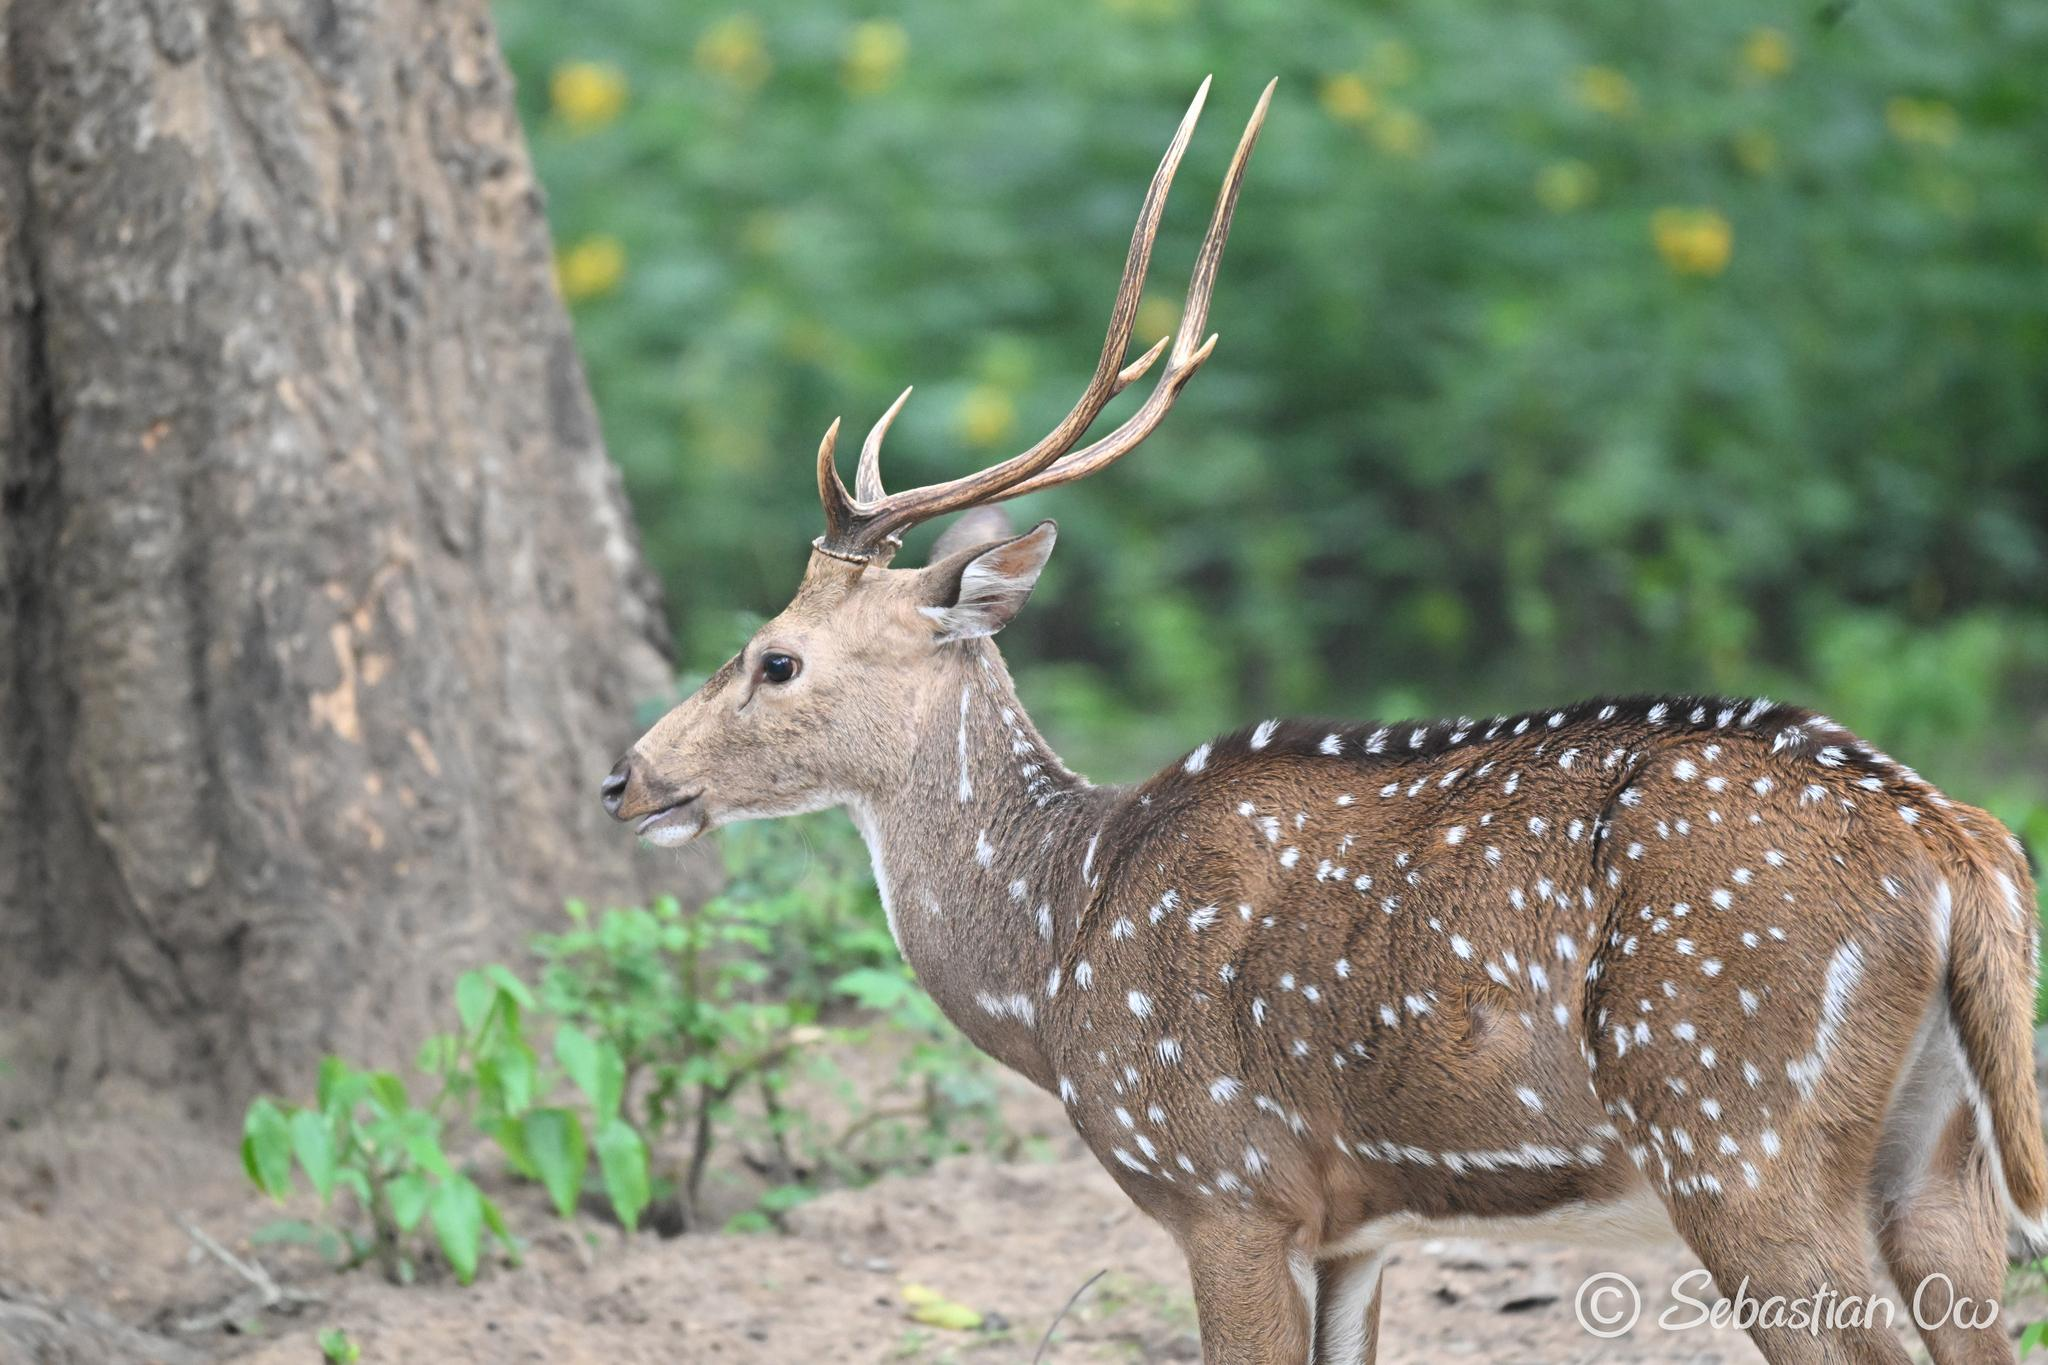Deer: (601, 81, 2046, 1363)
